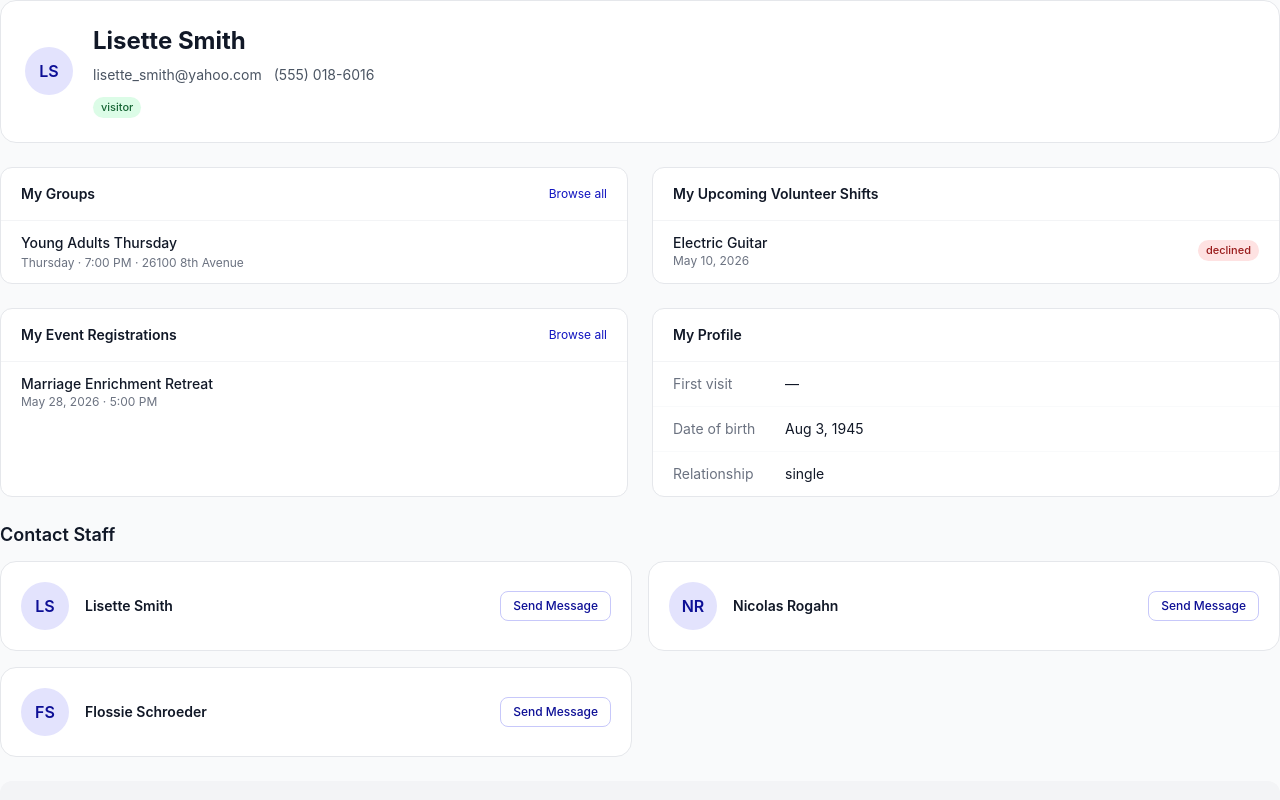
it: MemberDashboard — Contact Staff section › Send button in modal is enabled after typing a message
The width and height of the screenshot is (1280, 800).
Click the 1st button "Send Message" at (556, 606), box left=500, top=590, right=611, bottom=620
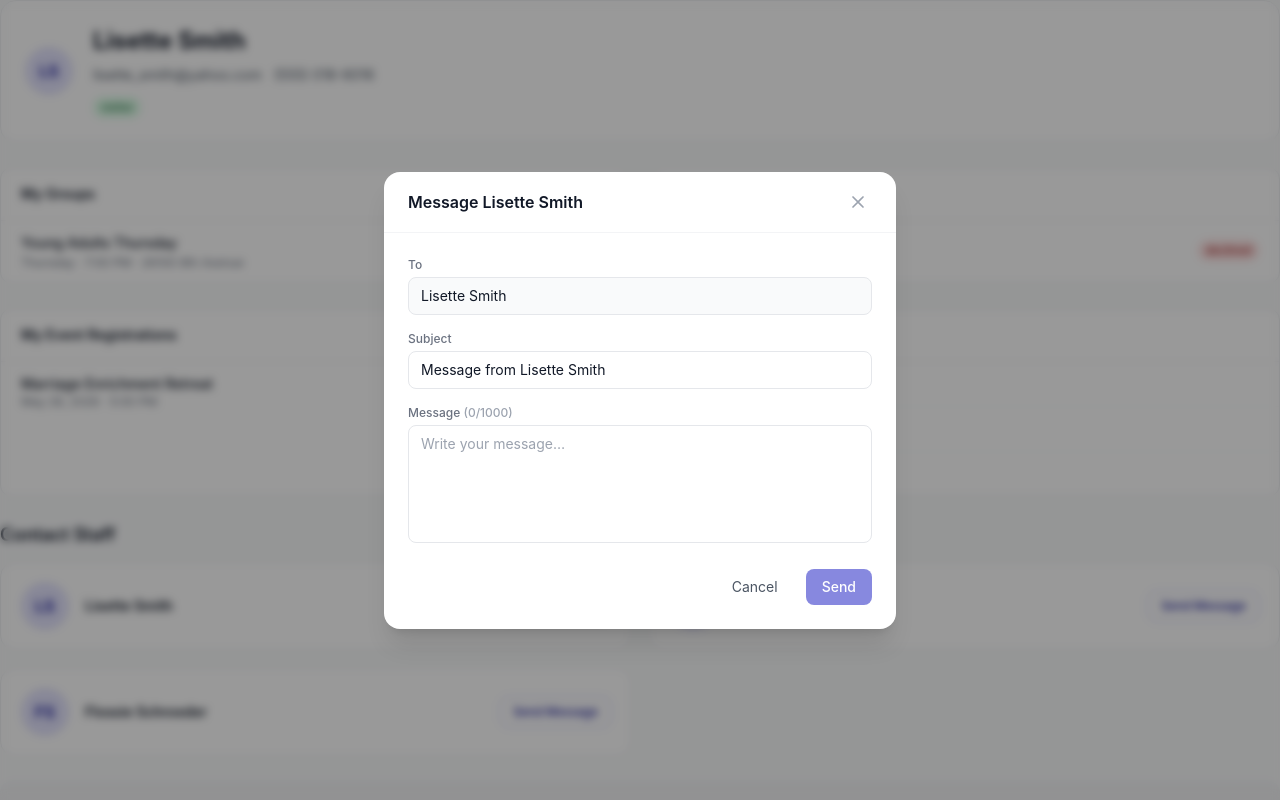
Type "Hello, this is a test message." into the text box with id "msg-body" at (640, 484), box left=408, top=424, right=872, bottom=542
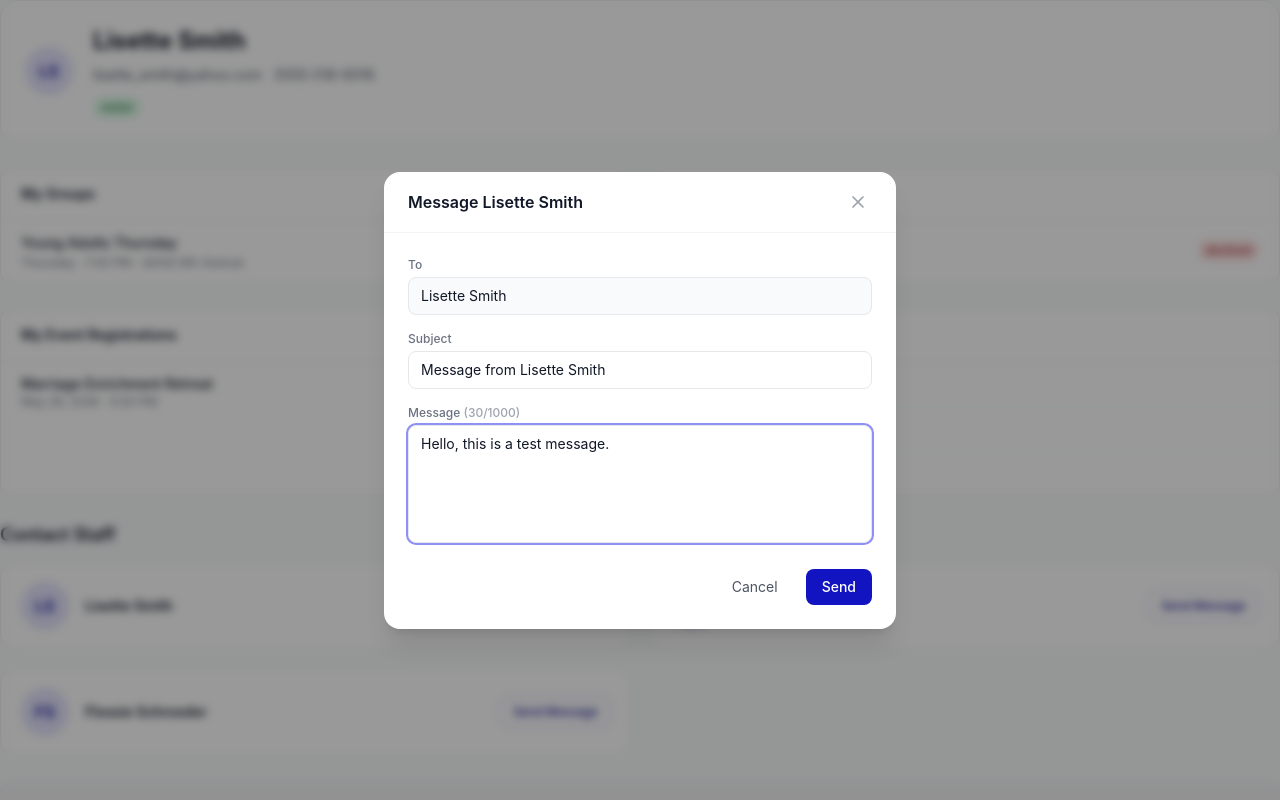
Check: the button "Send" is enabled, box left=806, top=568, right=872, bottom=604
